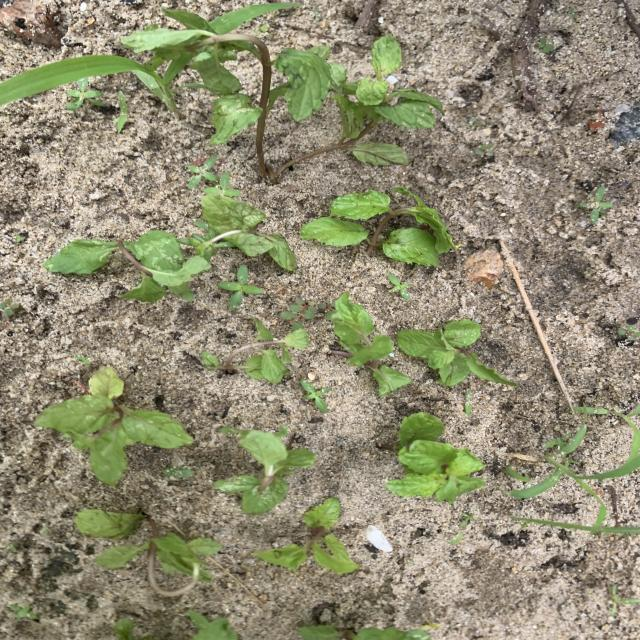crop: (121, 10, 442, 183), (34, 368, 191, 484), (75, 511, 221, 595), (300, 189, 459, 265), (44, 231, 209, 301), (381, 414, 483, 502), (215, 428, 315, 513), (328, 292, 410, 395), (190, 191, 295, 270), (398, 321, 516, 386), (254, 499, 358, 571), (203, 319, 309, 382), (300, 625, 416, 639), (190, 612, 238, 639), (114, 619, 151, 639)
weed: (510, 414, 640, 525), (2, 55, 179, 110), (209, 4, 297, 34), (220, 266, 262, 307), (578, 186, 612, 223), (67, 79, 102, 110), (281, 299, 322, 322), (610, 586, 639, 615), (189, 157, 217, 187), (303, 380, 329, 411), (205, 173, 239, 195), (389, 274, 410, 299), (115, 92, 126, 133), (11, 605, 37, 619), (1, 299, 19, 316), (575, 407, 607, 416), (163, 468, 192, 477), (539, 38, 554, 52), (476, 144, 493, 156), (461, 512, 474, 527), (76, 355, 89, 363), (450, 535, 463, 543), (569, 7, 577, 17), (15, 235, 24, 241)
